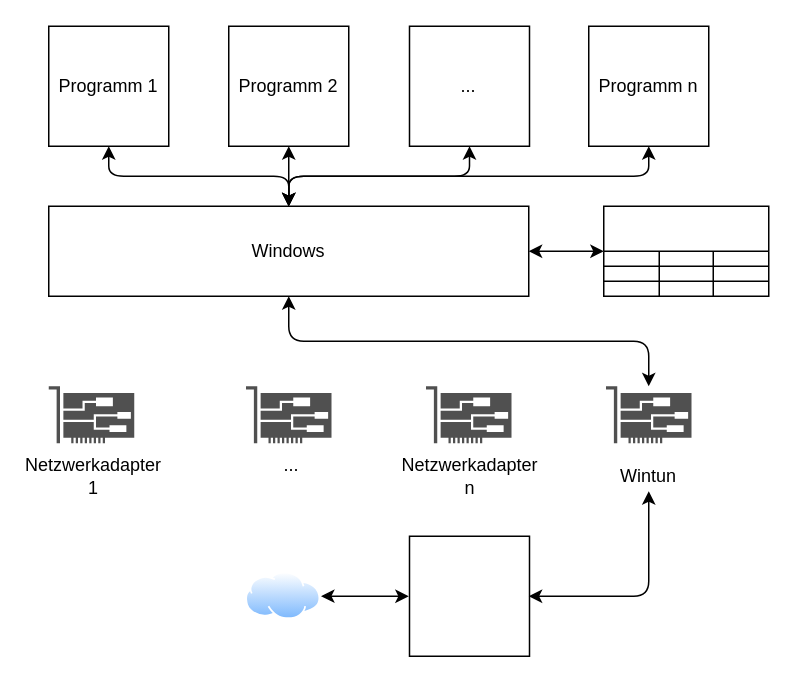
The diagram is 795 pixels wide and 683 high, and some of its shapes have lost their labels. Each missing label, with the centre of its shape:
IP Routing Table: point 685,250
Netshare Driver: point 469,595
